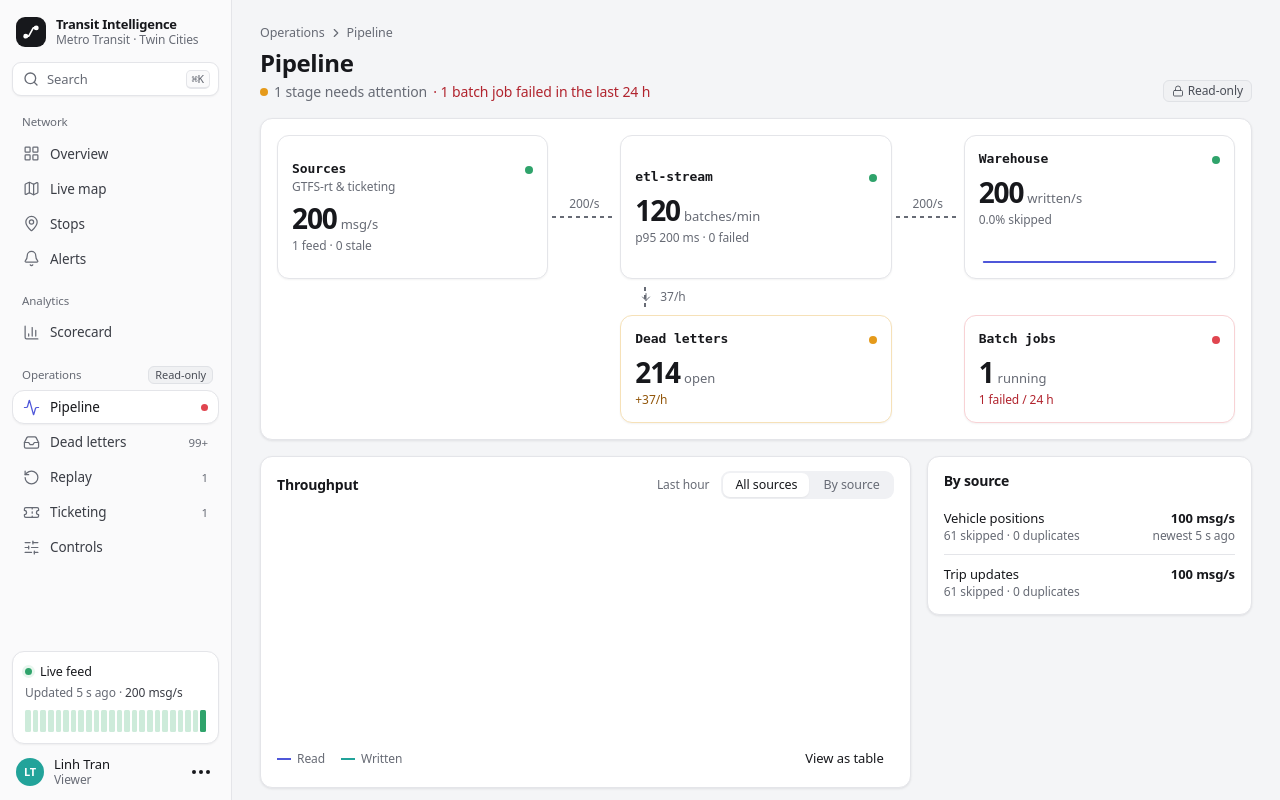
it: Pipeline › AC-1 shows the stages, Read and Written over every source, and a series per source by source
Expected: the heading "Pipeline" is shown, [260,46,354,79]
Expected: the text "Sources" is shown, [292,161,346,176]
Click the radio button labelled "By source".
click(852, 485)  # box [811,473,892,497]
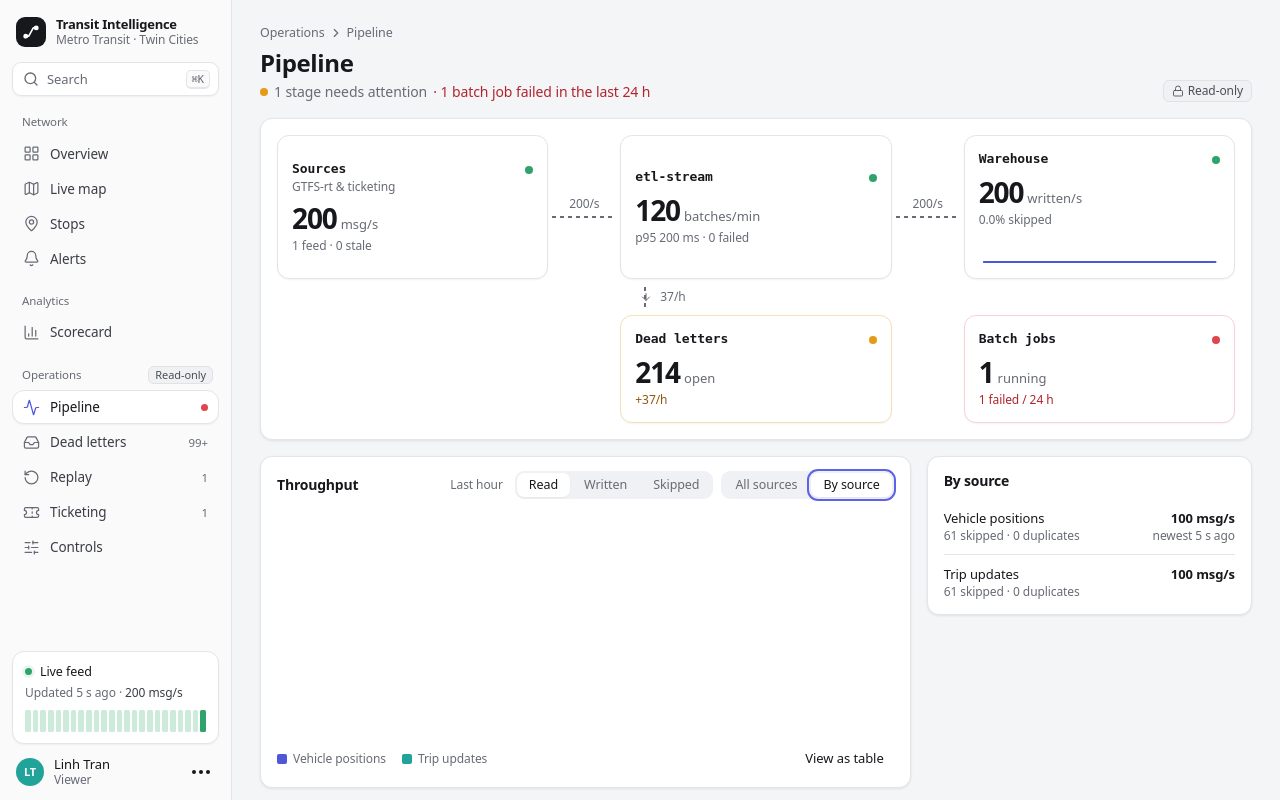
Now the list item "Vehicle positions" is shown, box [277,751,386,767]
Now the list item "Trip updates" is shown, box [402,751,487,767]
Now the radio button labelled "Skipped" is shown, box [641,473,711,497]
